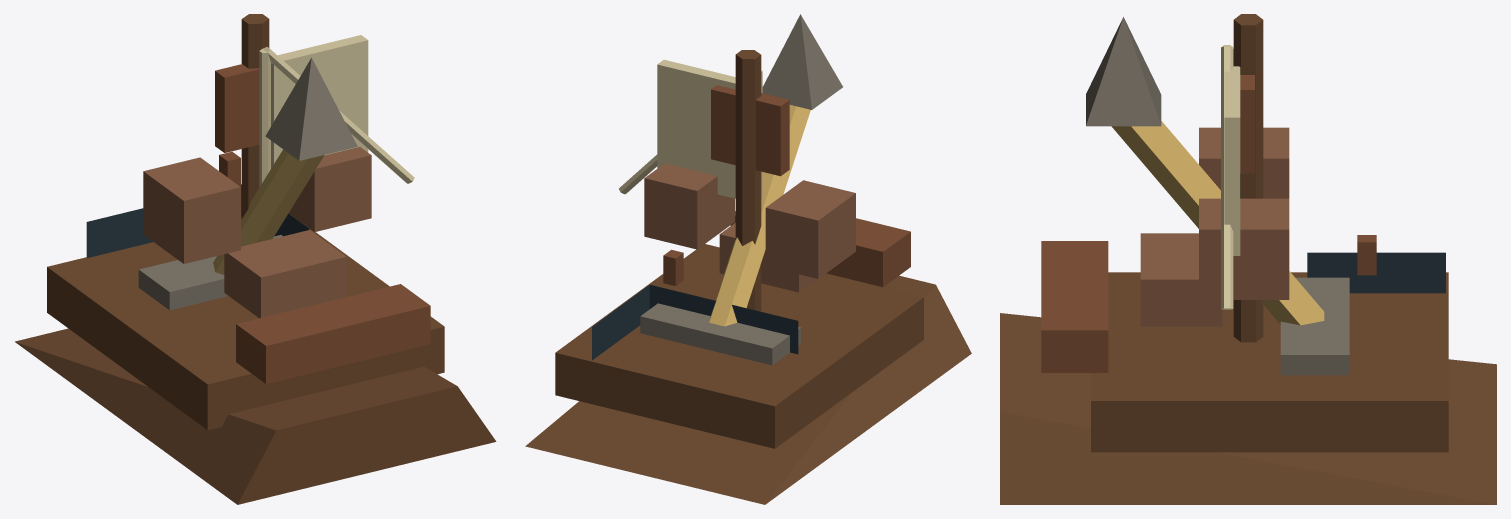
The model's file is naval-siege-ship.obj.
3 renders of one model, left to right at view 1: azimuth 30°, elevation 25°; view 2: azimuth 150°, elevation 25°; view 3: azimuth 270°, elevation 25°, orthographic. The views are drawn at different scales.
Visible parts, largest first — view 1: ship; view 2: ship; view 3: ship.
Boxes of the visible parts, <box> form: ship: <box>15,14,496,504</box>; ship: <box>525,14,971,504</box>; ship: <box>1000,14,1496,504</box>.
Size of the model in its own units: 1.66 by 2.14 by 2.31.
